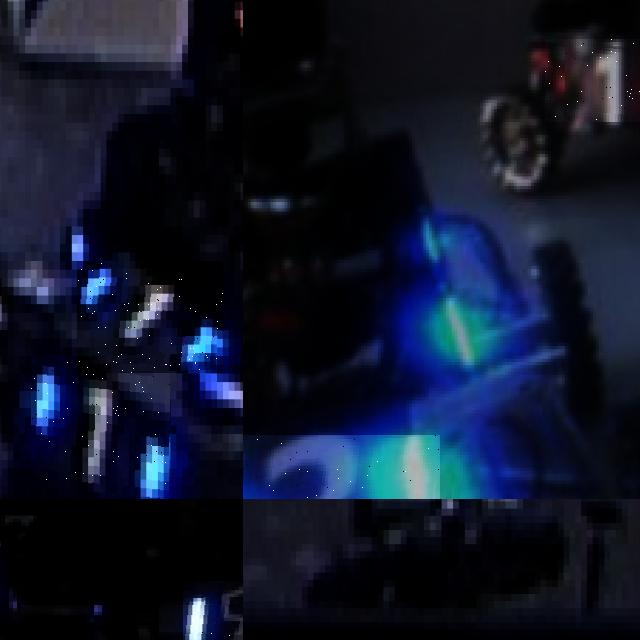B1: (30, 356, 170, 499), (77, 261, 223, 373)
B3: (243, 435, 440, 499)
Bs: (183, 581, 243, 640)
R1: (545, 39, 640, 122)
